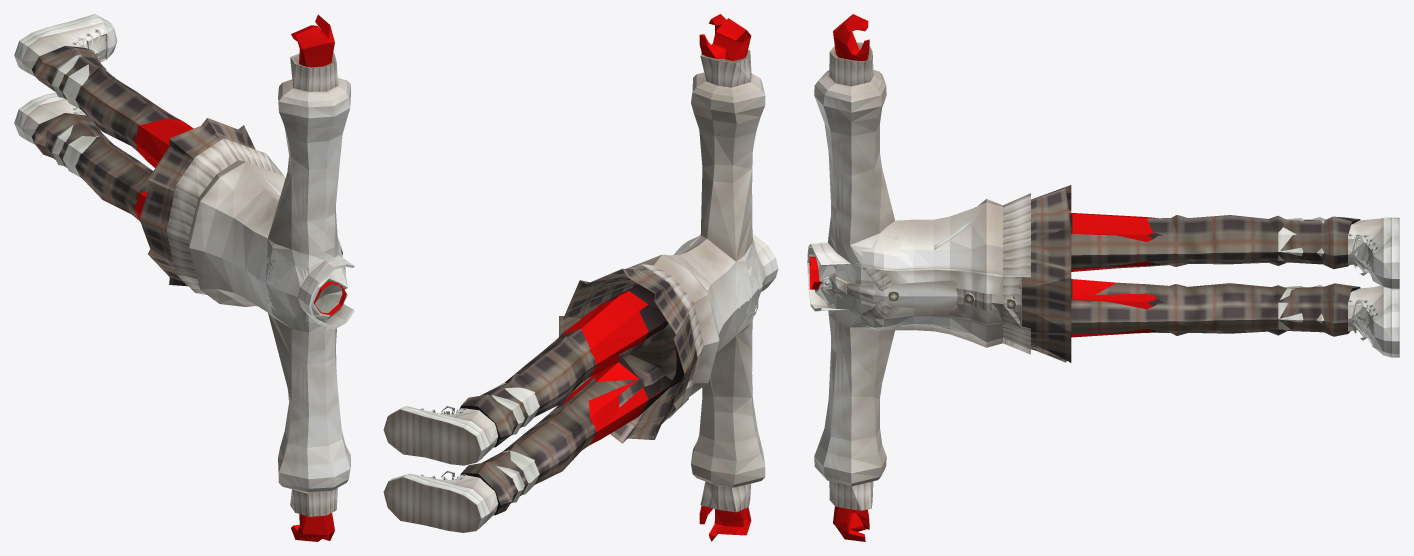
The model's file is body138.obj.
3 views of the same model, side by side, from view 1: azimuth 30°, elevation 25°; view 2: azimuth 150°, elevation 25°; view 3: azimuth 270°, elevation 25° (orthographic).
Parts seen in each view (by area): view 1: h_body138_0, h_body138_4, h_body138_5, l_body138_5, h_body138_1; view 2: h_body138_0, h_body138_4, l_body138_5, h_body138_5, h_body138_1; view 3: h_body138_0, h_body138_4, h_body138_1, h_body138_5, l_body138_5, l_body138_1, m_body138_1.
Boxes of the visible parts, bbox=[...] form: h_body138_0: bbox=[166, 14, 354, 541]; h_body138_4: bbox=[14, 14, 177, 219]; h_body138_5: bbox=[139, 117, 255, 286]; l_body138_5: bbox=[21, 46, 193, 220]; h_body138_1: bbox=[246, 15, 346, 540]; h_body138_0: bbox=[626, 14, 778, 539]; h_body138_4: bbox=[383, 303, 697, 532]; l_body138_5: bbox=[478, 284, 674, 523]; h_body138_5: bbox=[557, 268, 696, 443]; h_body138_1: bbox=[674, 14, 773, 541]; h_body138_0: bbox=[807, 14, 1030, 541]; h_body138_4: bbox=[1071, 215, 1399, 357]; h_body138_1: bbox=[807, 18, 1030, 541]; h_body138_5: bbox=[1022, 185, 1163, 362]; l_body138_5: bbox=[1022, 213, 1378, 337]; l_body138_1: bbox=[849, 280, 958, 310]; m_body138_1: bbox=[848, 274, 1021, 329].
Size of the model in its own units: 0.6483 by 2.37 by 2.43.
Materials: 2 (1 with a texture image).
